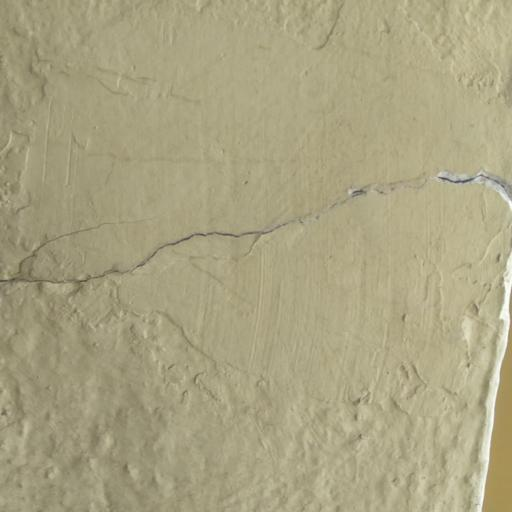minor_crack: (0, 152, 512, 300)
